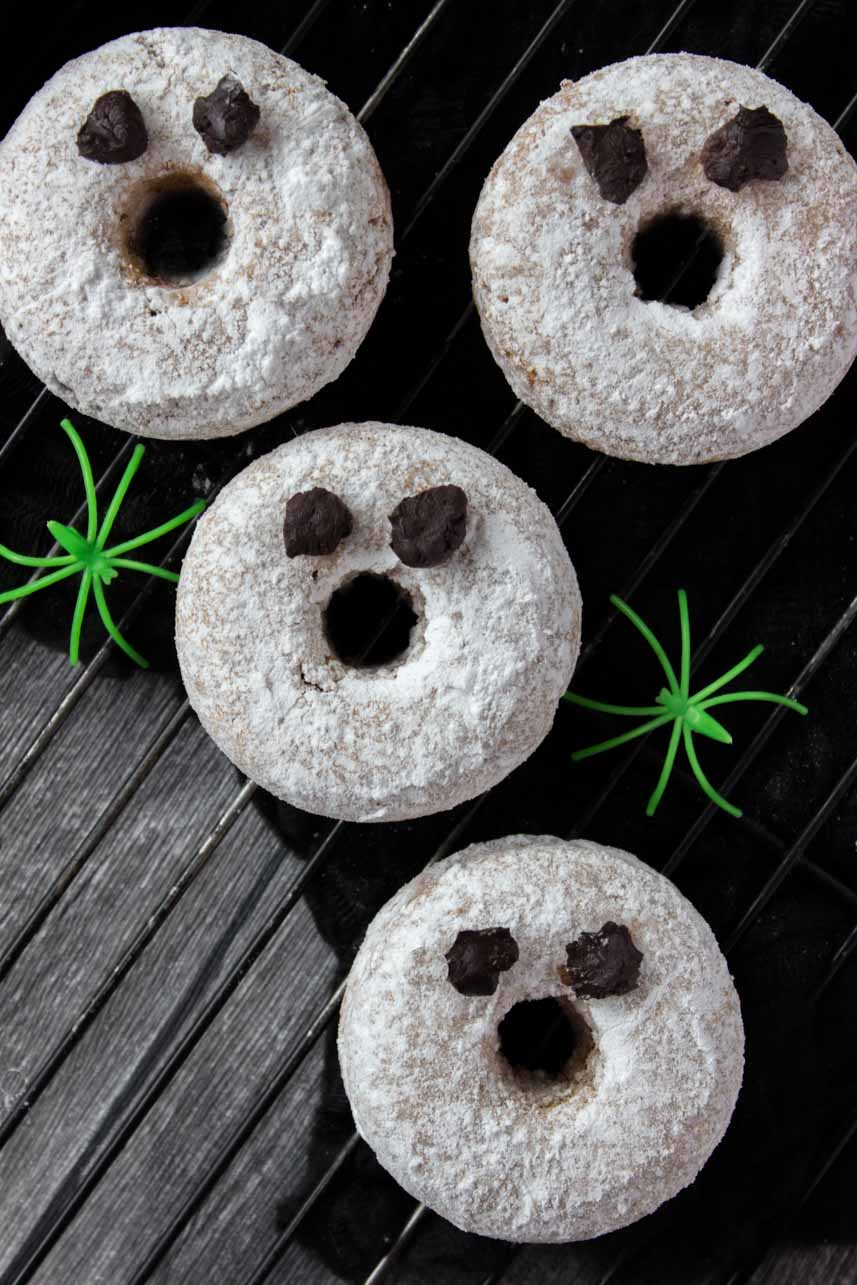Donut: (309, 813, 766, 1266), (453, 8, 857, 463), (150, 411, 597, 816), (0, 8, 402, 449)
